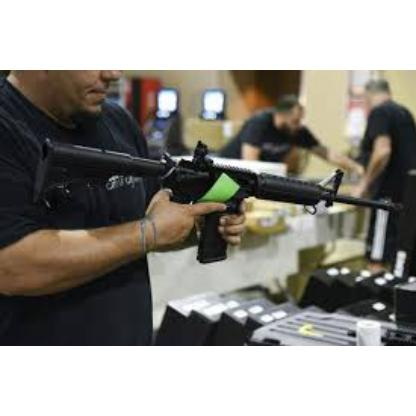gun: (25, 131, 395, 273)
